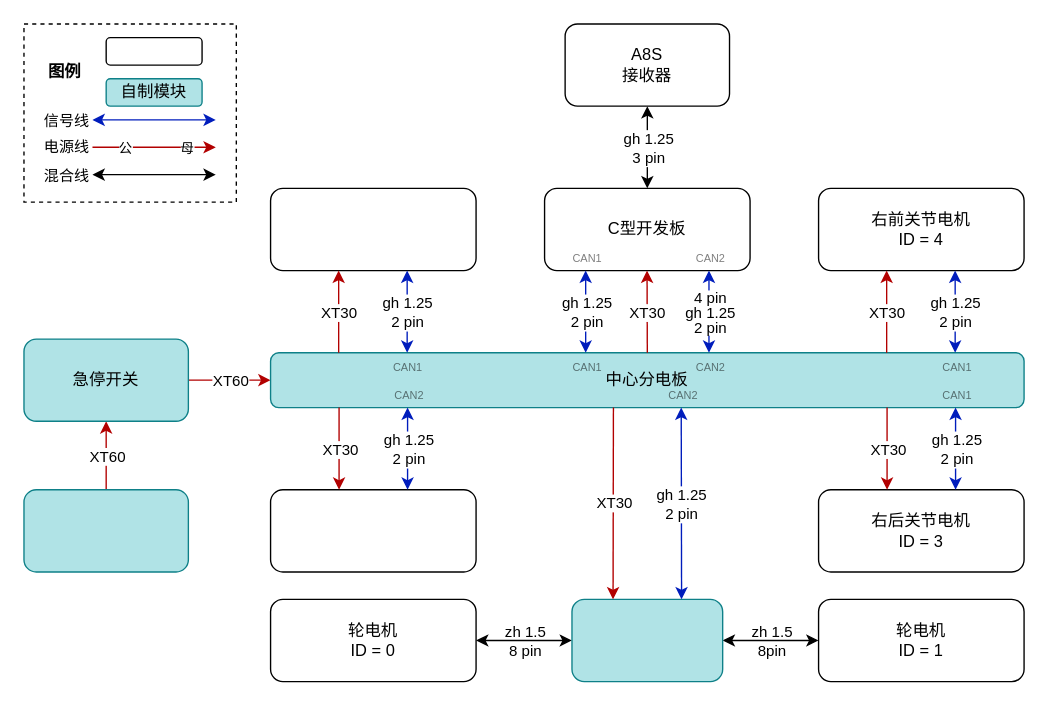
This 1048x706 diagram has some shape labels left out. The centre of each missing label's shape, as x and y in pixels:
"左前关节电机 ID = 1" belongs at [372,229].
"左后关节电机 ID = 2" belongs at [372,530].
"成品模块" belongs at [153,50].
"电机转接板" belongs at [647,640].
"电池" belongs at [105,530].
